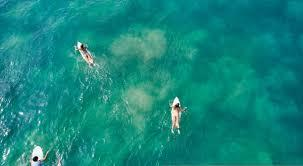swimmer: (166, 96, 188, 135), (75, 40, 97, 69), (168, 103, 187, 135), (76, 42, 93, 65), (31, 145, 44, 166), (31, 152, 50, 166)
